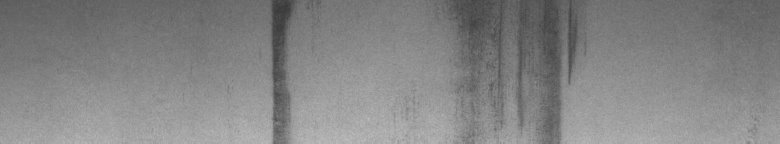ka: (460, 4, 580, 136)
